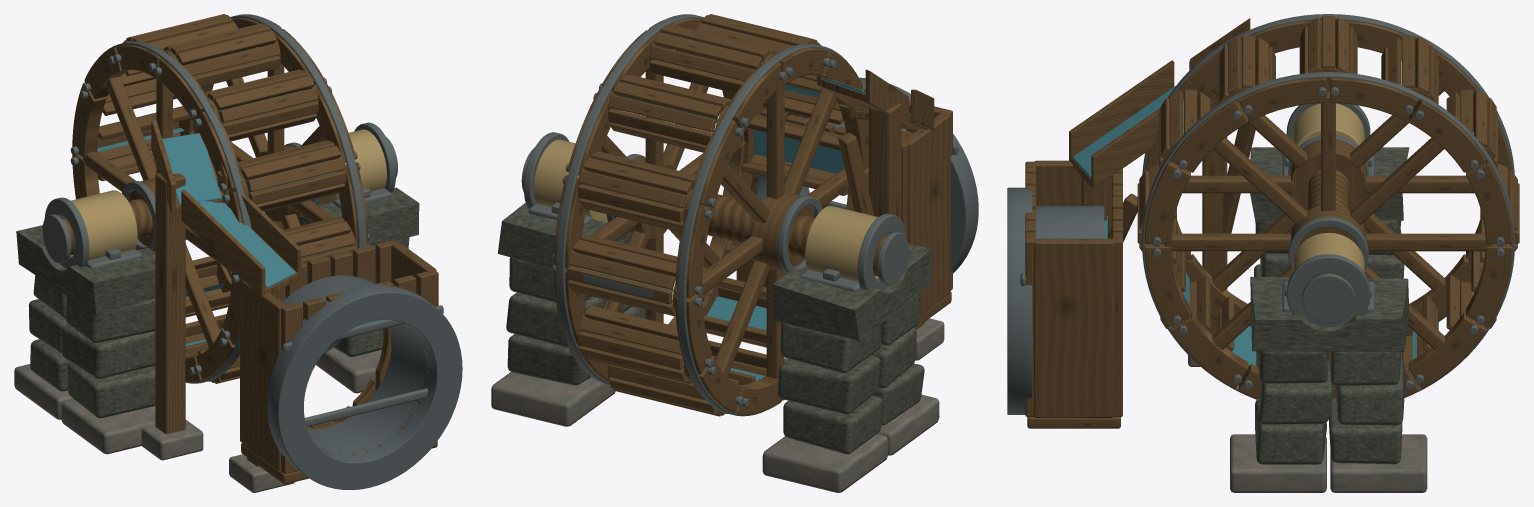
File: stone-water-wheel-v2.glb
3 views of the same model, side by side, from view 1: azimuth 30°, elevation 25°; view 2: azimuth 150°, elevation 25°; view 3: azimuth 270°, elevation 25° (orthographic). The views are drawn at different scales.
Parts seen in each view (by area): view 1: Outlet | canonical collar, Outlet | canonical full bore throat, V2 race | timber upright, V2 masonry | carved bearing saddle, V2 receiver | separate side stave, V2 masonry | fitted coursed bearing pier, V2 masonry | fitted coursed bearing pier.002, V2 bearing | hollow bronze sleeve, V2 footing | inset separate structural foot, V2 race | joined side rail.002, V2 masonry | fitted coursed bearing pier.004, V2 masonry | carved bearing saddle.001 (+67 smaller); view 2: V2 masonry | carved bearing saddle, V2 receiver | separate side stave, V2 footing | inset separate structural foot.001, V2 footing | inset separate structural foot.003, V2 masonry | fitted coursed bearing pier.003, V2 rim | thin forged tyre, V2 rim | thin forged tyre.001, V2 masonry | fitted coursed bearing pier.001, V2 bearing | hollow bronze sleeve, V2 race | timber upright, V2 masonry | fitted coursed bearing pier.005, V2 masonry | carved bearing saddle.001 (+80 smaller); view 3: V2 receiver | separate side stave.001, V2 masonry | carved bearing saddle.001, Outlet | canonical collar, V2 rim | thin forged tyre.001, V2 footing | inset separate structural foot.003, V2 footing | inset separate structural foot.002, V2 masonry | fitted coursed bearing pier.008, V2 race | joined side rail.002, V2 masonry | fitted coursed bearing pier.007, V2 masonry | fitted coursed bearing pier.006, V2 masonry | carved bearing saddle, V2 masonry | fitted coursed bearing pier.009 (+68 smaller).
Boxes of the visible parts, box(x1,y1,x2,y2) form: Outlet | canonical collar: box(267, 284, 462, 489); Outlet | canonical full bore throat: box(282, 275, 446, 473); V2 race | timber upright: box(155, 173, 185, 433); V2 masonry | carved bearing saddle: box(16, 225, 155, 315); V2 receiver | separate side stave: box(242, 280, 286, 471); V2 masonry | fitted coursed bearing pier: box(67, 362, 155, 418); V2 masonry | fitted coursed bearing pier.002: box(61, 324, 155, 378); V2 bearing | hollow bronze sleeve: box(60, 190, 137, 260); V2 footing | inset separate structural foot: box(61, 399, 155, 454); V2 race | joined side rail.002: box(181, 189, 265, 297); V2 masonry | fitted coursed bearing pier.004: box(66, 296, 155, 342); V2 masonry | carved bearing saddle.001: box(297, 187, 419, 245); V2 masonry | carved bearing saddle: box(772, 243, 931, 340); V2 receiver | separate side stave: box(902, 113, 950, 314); V2 footing | inset separate structural foot.001: box(762, 433, 887, 492); V2 footing | inset separate structural foot.003: box(491, 372, 615, 426); V2 masonry | fitted coursed bearing pier.003: box(778, 355, 880, 414); V2 rim | thin forged tyre: box(677, 43, 862, 416); V2 rim | thin forged tyre.001: box(556, 14, 703, 384); V2 masonry | fitted coursed bearing pier.001: box(783, 395, 882, 454); V2 bearing | hollow bronze sleeve: box(805, 206, 888, 281); V2 race | timber upright: box(869, 103, 901, 219); V2 masonry | fitted coursed bearing pier.005: box(780, 323, 880, 373); V2 masonry | carved bearing saddle.001: box(498, 203, 631, 268); V2 receiver | separate side stave.001: box(1034, 238, 1114, 417); V2 masonry | carved bearing saddle.001: box(1250, 276, 1409, 351); Outlet | canonical collar: box(1007, 187, 1032, 414); V2 rim | thin forged tyre.001: box(1142, 72, 1514, 399); V2 footing | inset separate structural foot.003: box(1330, 434, 1427, 492); V2 footing | inset separate structural foot.002: box(1230, 434, 1326, 492); V2 masonry | fitted coursed bearing pier.008: box(1259, 359, 1332, 424); V2 race | joined side rail.002: box(1069, 60, 1174, 161); V2 masonry | fitted coursed bearing pier.007: box(1328, 398, 1402, 464); V2 masonry | fitted coursed bearing pier.006: box(1255, 398, 1326, 464); V2 masonry | carved bearing saddle: box(1250, 147, 1409, 222); V2 masonry | fitted coursed bearing pier.009: box(1335, 356, 1404, 425).
Bounding box in the file's own units: 1.23 × 1.22 × 1.53.
Materials: 8 (4 with a texture image).
